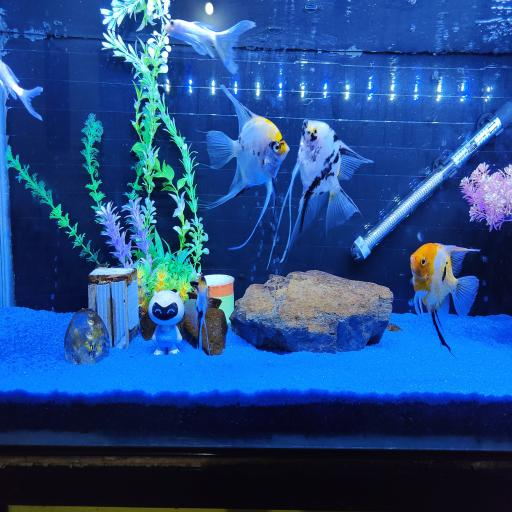Fish: (268, 120, 372, 267), (203, 85, 289, 249), (411, 243, 479, 353), (165, 20, 255, 74), (0, 61, 43, 120), (185, 274, 209, 348)
